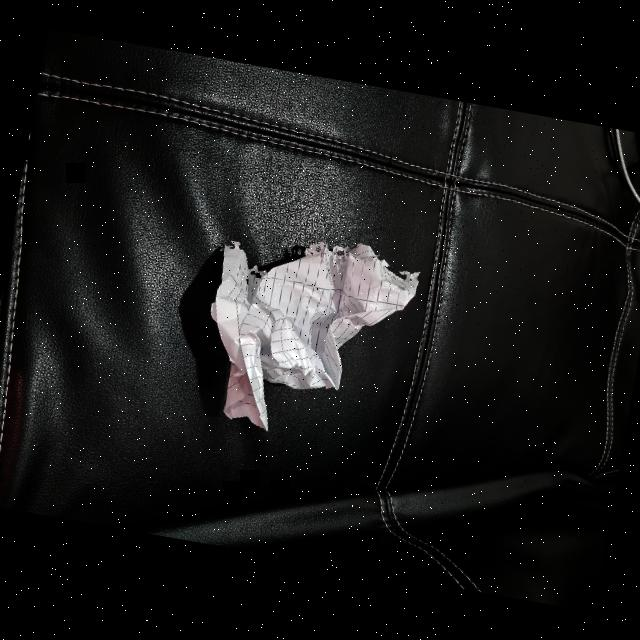scrap_paper: (184, 218, 421, 448)
